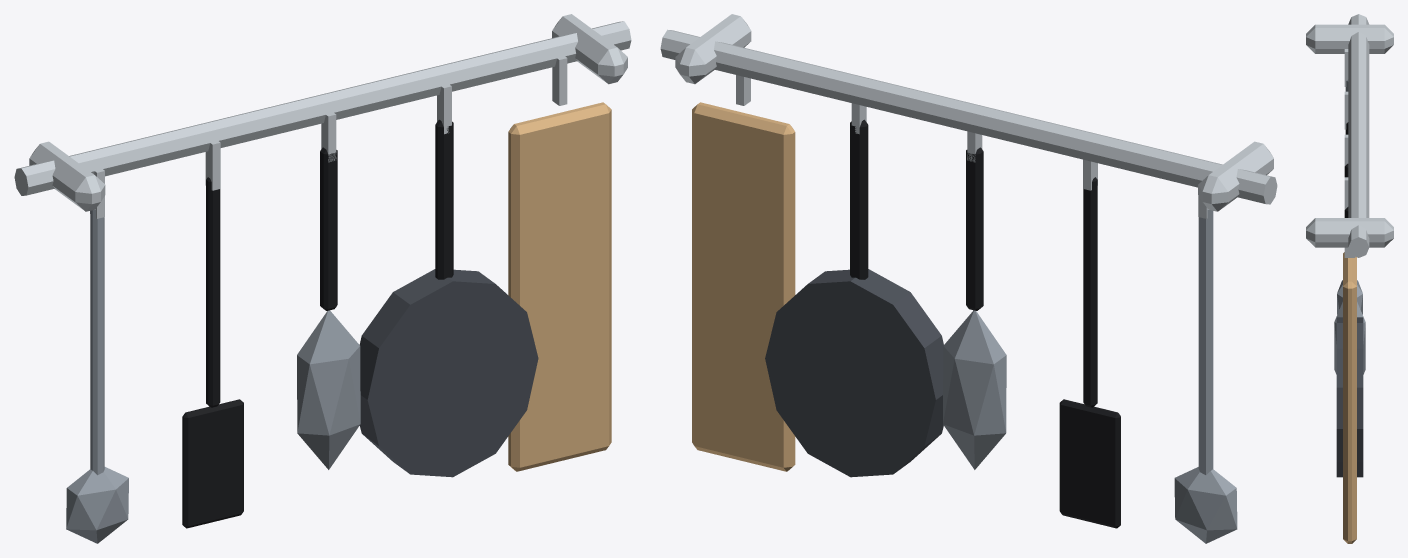
The model's file is kitchen_rack.glb.
The picture shows the model from 3 angles, left to right: view 1: azimuth 30°, elevation 25°; view 2: azimuth 150°, elevation 25°; view 3: azimuth 270°, elevation 25°; orthographic projection. The views are drawn at different scales.
Parts seen in each view (by area): view 1: kitchen_rack_Body; view 2: kitchen_rack_Body; view 3: kitchen_rack_Body.
Part boxes in pixels (left/top/right/bottom): kitchen_rack_Body: left=14, top=14, right=631, bottom=543; kitchen_rack_Body: left=660, top=14, right=1277, bottom=543; kitchen_rack_Body: left=1306, top=14, right=1393, bottom=543.
Bounding box in the file's own units: 0.6 × 0.4 × 0.1.
